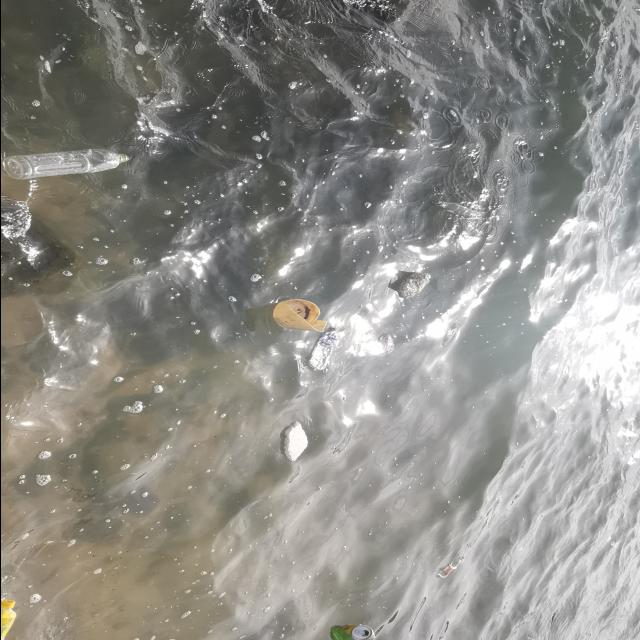can: (323, 623, 379, 640)
foam: (281, 423, 311, 462), (393, 271, 431, 299)
plastic: (0, 150, 134, 180), (308, 328, 341, 372), (434, 200, 481, 220), (434, 556, 467, 579), (0, 598, 17, 640)
plastic bottle: (273, 299, 325, 333)
